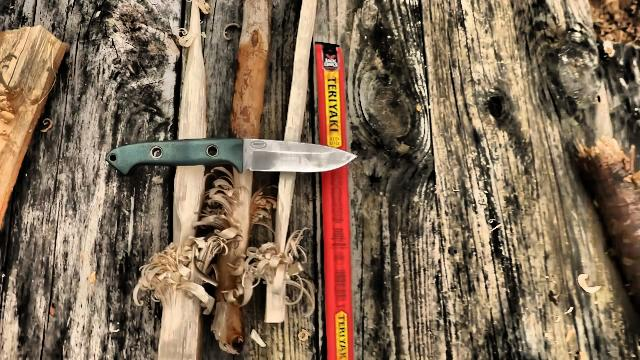knife: (204, 134, 376, 180)
